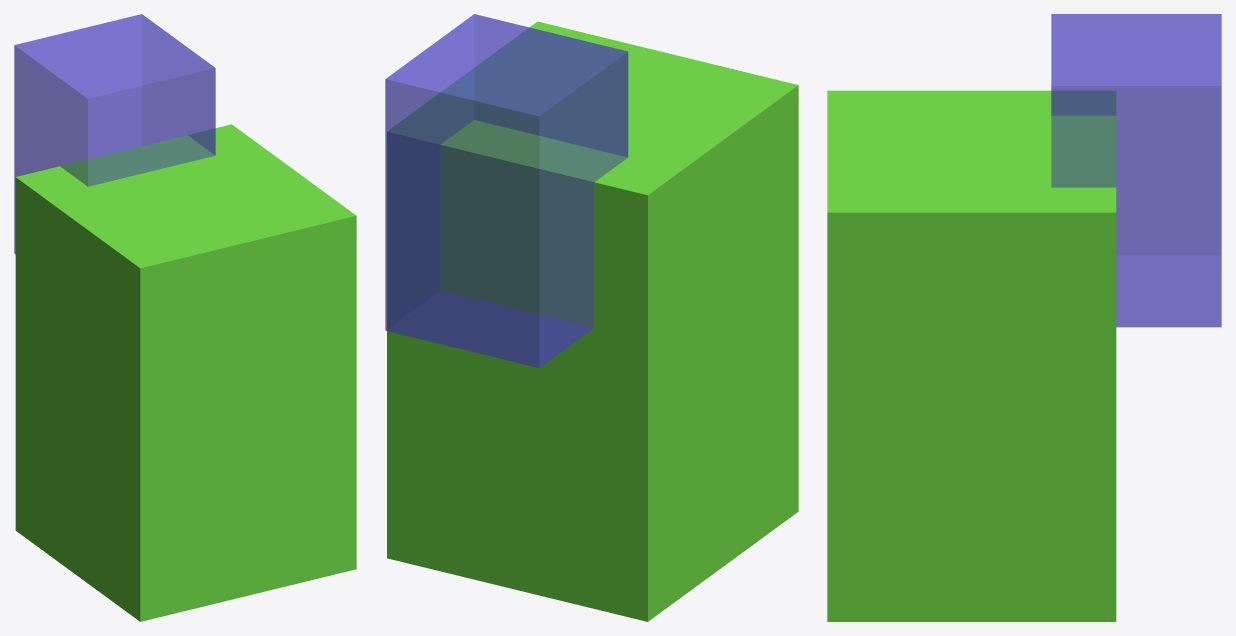
Rendered from alpha_blue_cube (1).fbx.
3 views of the same model, side by side, from view 1: azimuth 30°, elevation 25°; view 2: azimuth 150°, elevation 25°; view 3: azimuth 270°, elevation 25° (orthographic). The views are drawn at different scales.
Parts seen in each view (by area): view 1: Cube, Cube.001; view 2: Cube, Cube.001; view 3: Cube, Cube.001.
Boxes of the visible parts, <box> form: Cube: <box>15,124,356,621</box>; Cube.001: <box>14,14,215,254</box>; Cube: <box>387,21,798,621</box>; Cube.001: <box>385,14,628,368</box>; Cube: <box>827,90,1116,621</box>; Cube.001: <box>1051,14,1221,327</box>.
Size of what is drawn, in the model's own units: 2.43 by 3.32 by 4.74.
